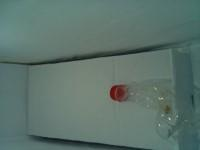bottle: (108, 78, 177, 140)
